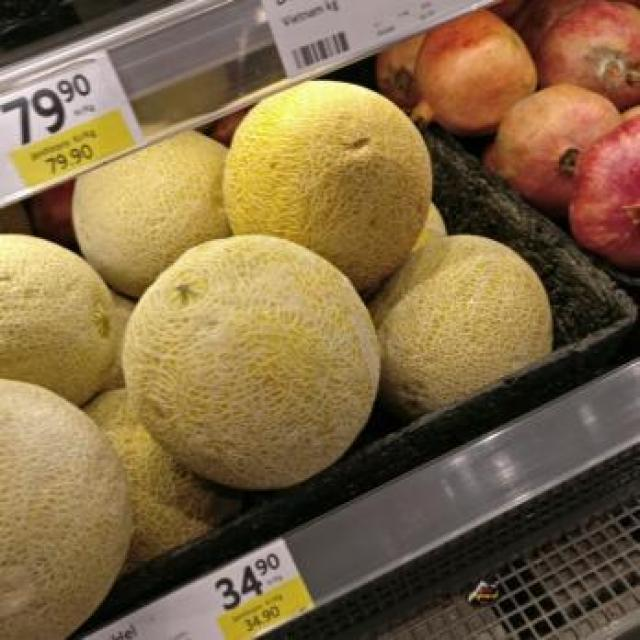Cantaloupe: (125, 224, 388, 484), (221, 74, 435, 291), (0, 358, 145, 638), (373, 221, 565, 413), (48, 103, 232, 285), (0, 223, 130, 396)
Pomegranate: (489, 68, 627, 202), (419, 17, 537, 131), (559, 120, 638, 289)
